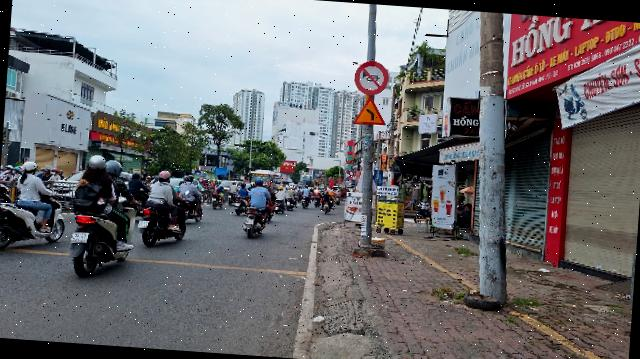cam-bop-coi: (352, 58, 388, 96)
cho-ngoat-nguy-hiem-ben-trai: (352, 94, 387, 126)
